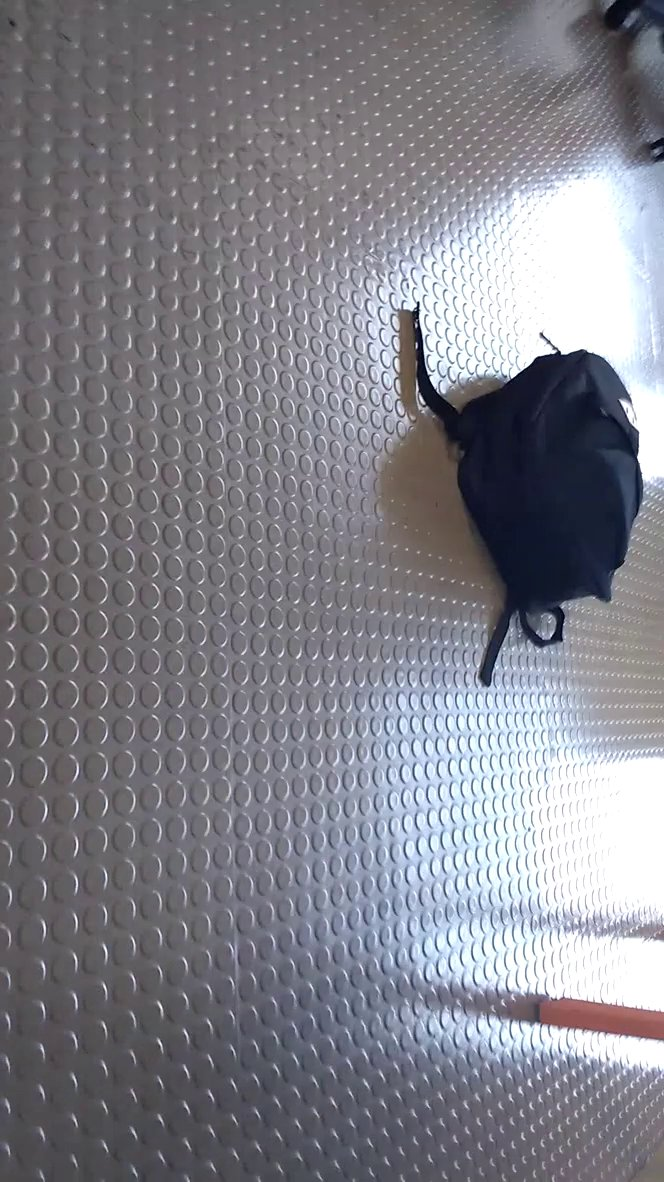bag: (403, 300, 656, 696)
